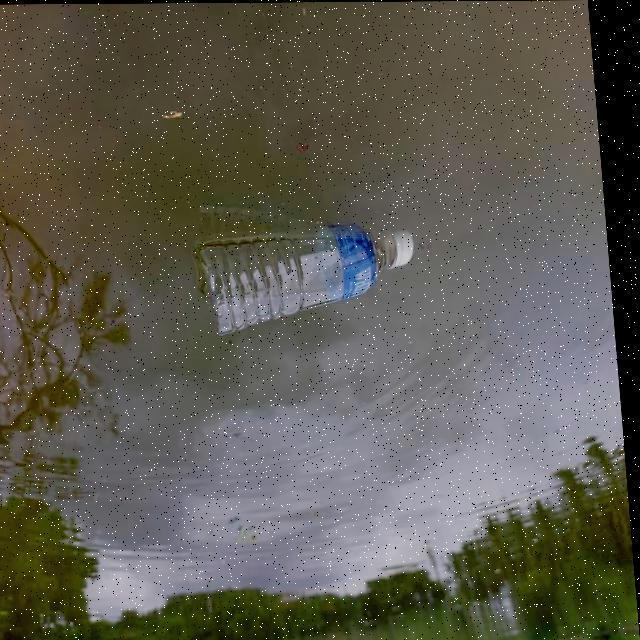Plastic: (197, 226, 421, 340)
